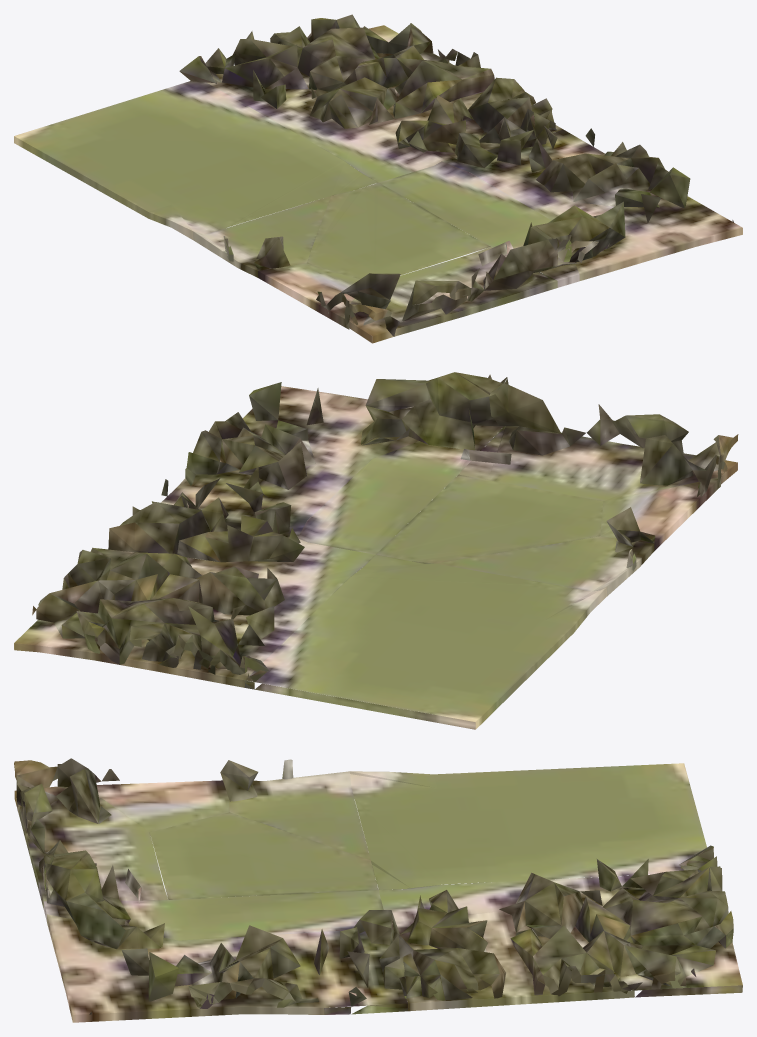
The picture shows the model from 3 angles, top to bottom: view 1: azimuth 30°, elevation 25°; view 2: azimuth 150°, elevation 25°; view 3: azimuth 270°, elevation 25°; orthographic projection. The views are drawn at different scales.
Visible parts, largest first — view 1: Mesh_0; view 2: Mesh_0; view 3: Mesh_0.
Part boxes in pixels (x1,y1,x2,y2): Mesh_0: (14, 14, 742, 343); Mesh_0: (14, 372, 738, 729); Mesh_0: (14, 758, 742, 1022).
Bounding box in the file's own units: 266 × 36.12 × 330.
1 material, 1 textured.
